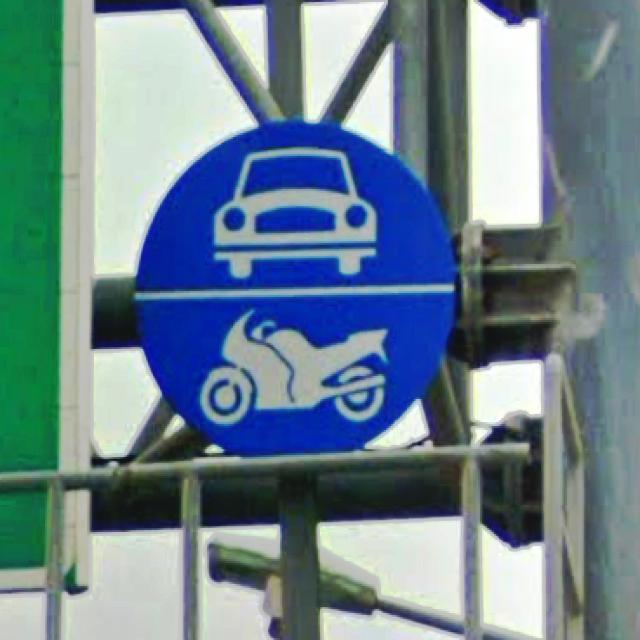carmotorcycle: (130, 116, 461, 457)
